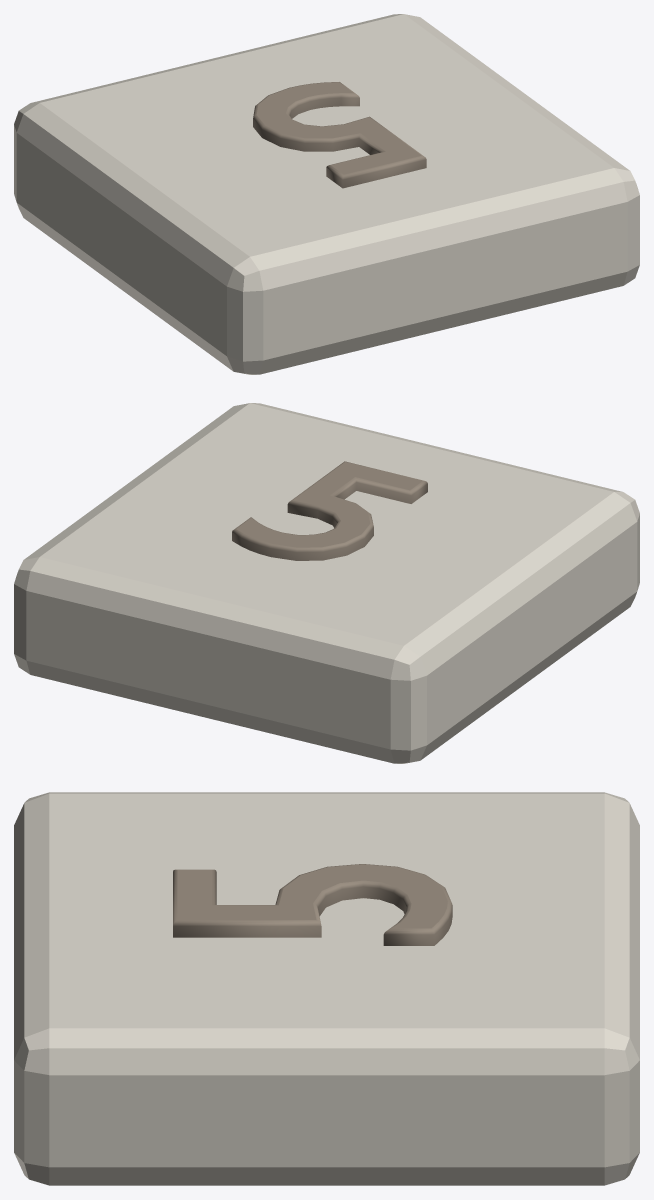
The model's file is Tile_5.fbx.
The picture shows the model from 3 angles, top to bottom: view 1: azimuth 30°, elevation 25°; view 2: azimuth 150°, elevation 25°; view 3: azimuth 270°, elevation 25°; orthographic projection. The views are drawn at different scales.
Visible parts, largest first — view 1: Tile_5; view 2: Tile_5; view 3: Tile_5.
Boxes of the visible parts, <box> form: Tile_5: <box>14,14,639,374</box>; Tile_5: <box>14,403,639,763</box>; Tile_5: <box>14,792,639,1185</box>.
Size of the model in its own units: 80 by 24.2 by 80.
